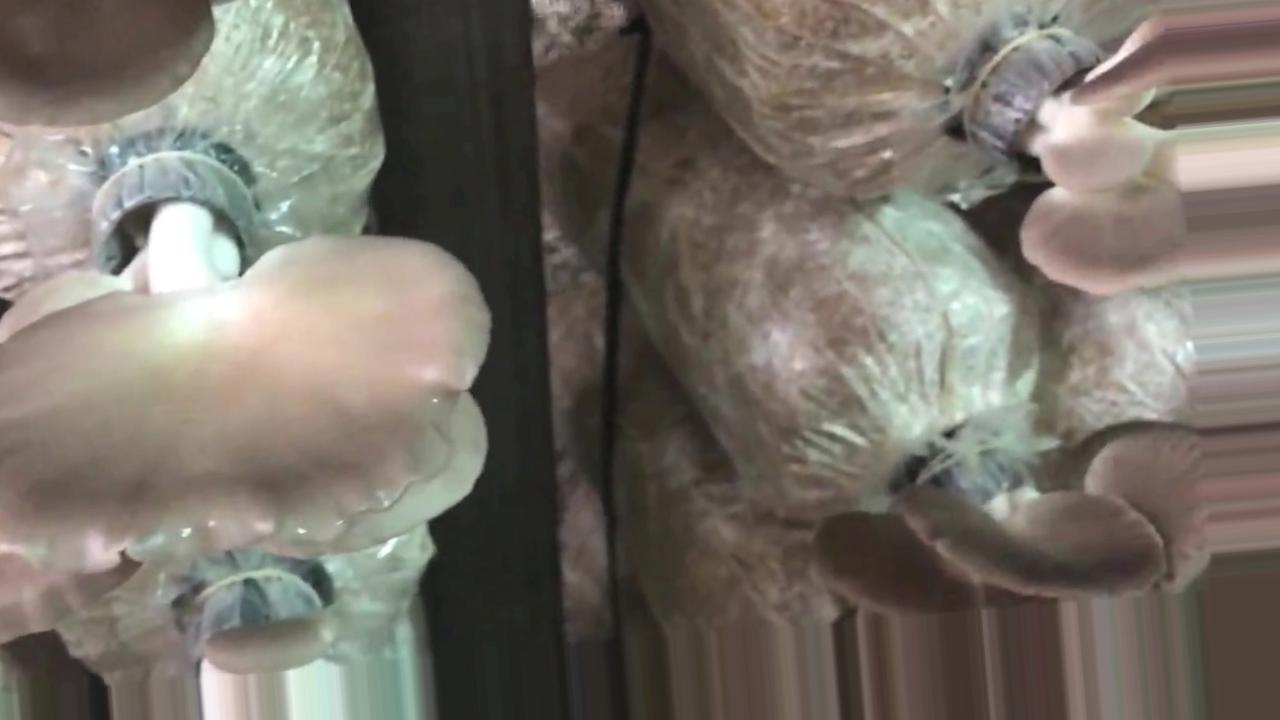nam: (1, 141, 493, 573), (820, 407, 1214, 617), (1018, 41, 1192, 296), (1, 5, 220, 131)
